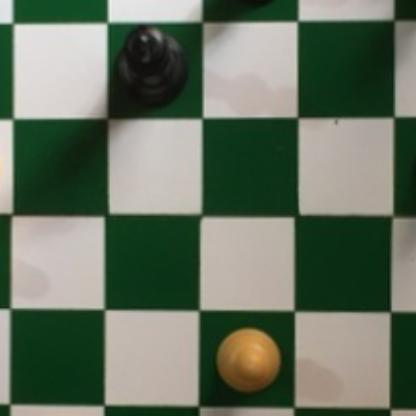black-bishop: (397, 0, 416, 3)
black-king: (110, 19, 193, 108)
black-pawn: (214, 0, 287, 9), (409, 133, 416, 202)
white-knight: (0, 115, 1, 210)
white-pawn: (212, 316, 283, 391)
